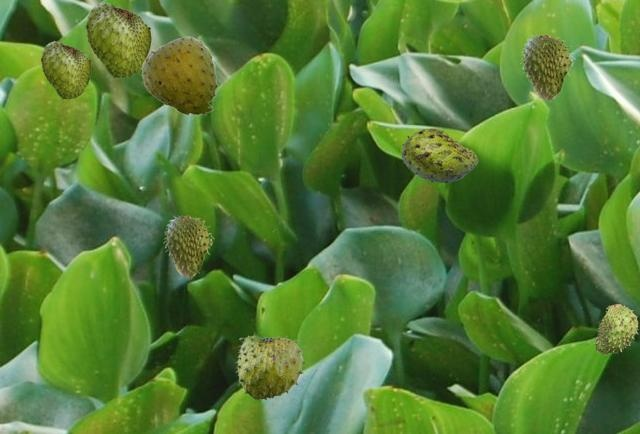guyabano: (140, 36, 217, 116), (86, 1, 150, 77), (235, 332, 305, 399), (401, 128, 477, 182), (520, 34, 574, 101), (163, 215, 213, 278), (41, 40, 90, 98), (593, 304, 637, 354)
